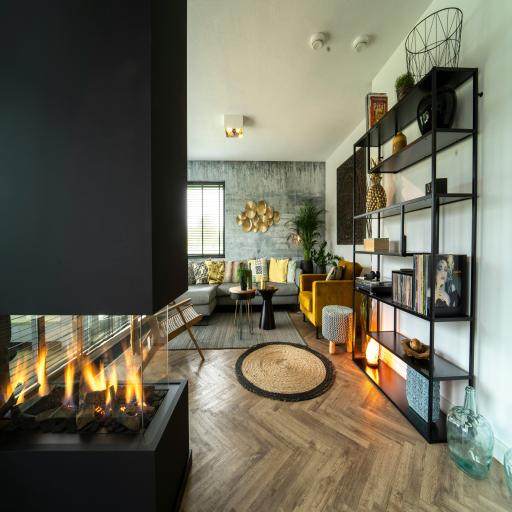campfire: (0, 263, 173, 465)
candlelight: (345, 308, 392, 382)
